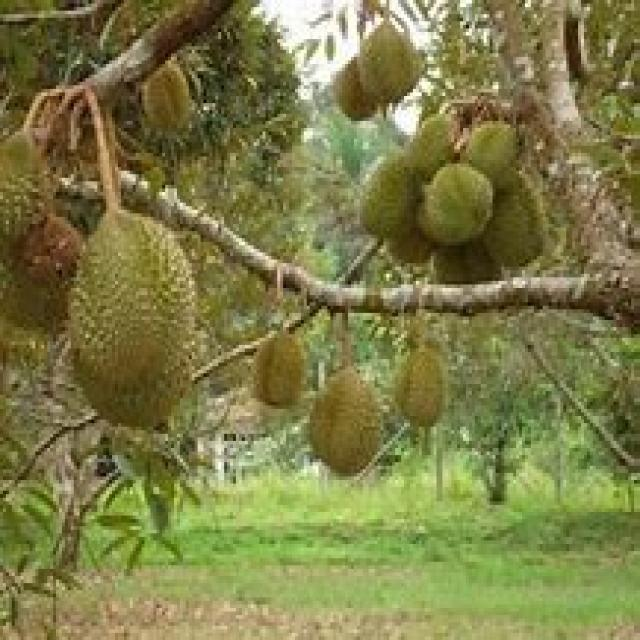mature: (69, 209, 194, 427), (310, 366, 381, 474)
